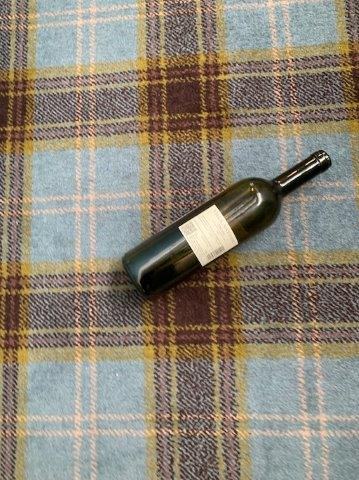botolkaca: (119, 151, 333, 297)
